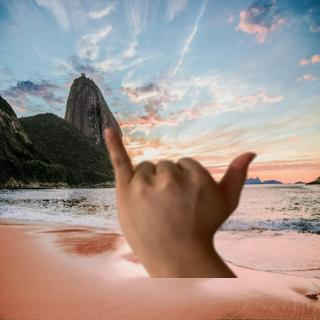HAVE: (89, 118, 267, 266)
